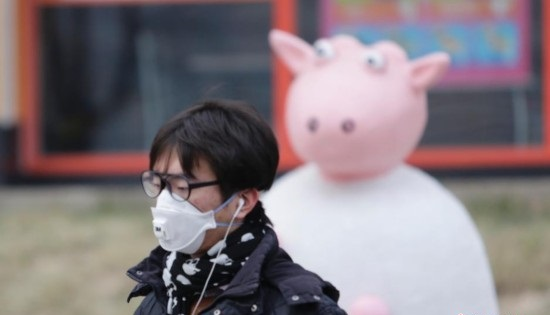face_mask: (148, 148, 223, 254)
